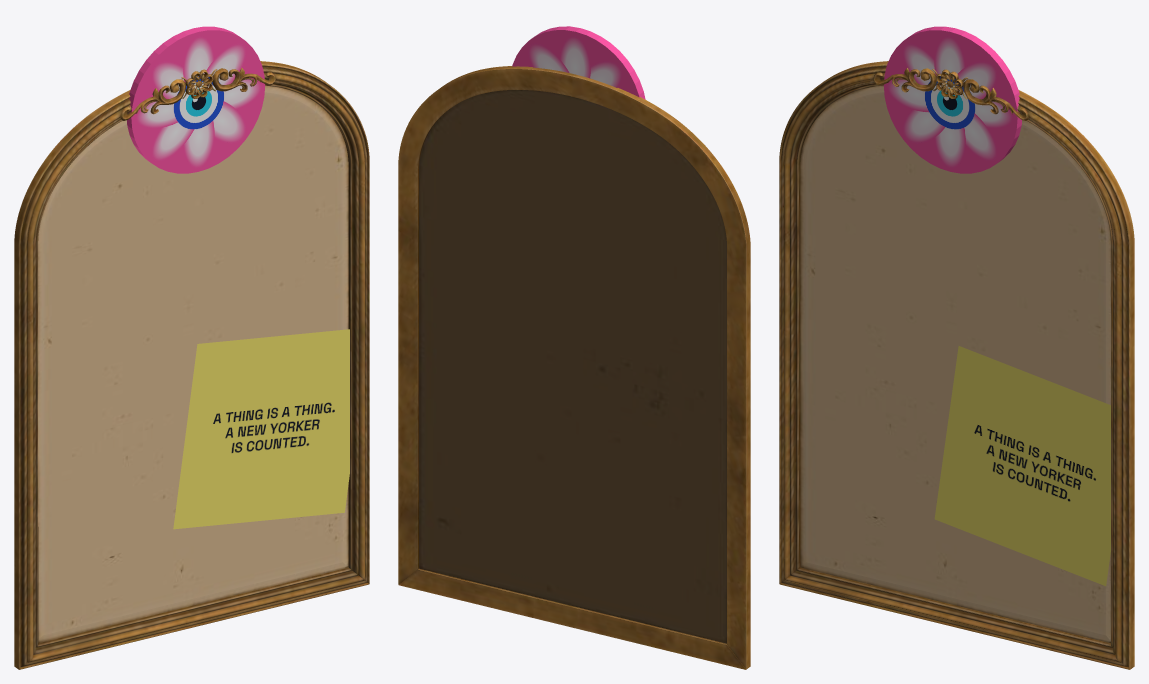
The model's file is nyb_birdman_vanity.glb.
3 views of the same model, side by side, from view 1: azimuth 30°, elevation 25°; view 2: azimuth 150°, elevation 25°; view 3: azimuth 330°, elevation 25° (orthographic).
Parts seen in each view (by area): view 1: ornate_mirror_01, stk_lbl_9a33c287fb.png, add_eyeflower.png, Cylinder; view 2: ornate_mirror_01, Cylinder, add_eyeflower.png; view 3: ornate_mirror_01, stk_lbl_9a33c287fb.png, add_eyeflower.png, Cylinder.
Boxes of the visible parts, x1,y1,x2,y2 form: ornate_mirror_01: (14, 61, 369, 669); stk_lbl_9a33c287fb.png: (173, 329, 349, 529); add_eyeflower.png: (136, 36, 261, 168); Cylinder: (127, 26, 265, 173); ornate_mirror_01: (398, 66, 750, 669); Cylinder: (512, 26, 645, 99); add_eyeflower.png: (528, 36, 621, 87); ornate_mirror_01: (779, 61, 1134, 669); stk_lbl_9a33c287fb.png: (934, 346, 1110, 586); add_eyeflower.png: (887, 36, 1012, 168); Cylinder: (883, 26, 1021, 173).
Size of the model in its own units: 0.4865 by 0.7922 by 0.026.
Materials: 4 (3 with a texture image).
